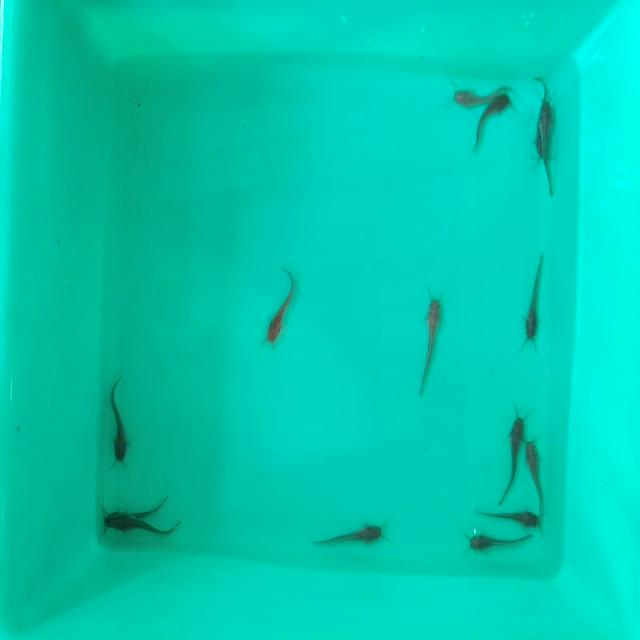lele: (479, 94, 514, 160), (499, 414, 525, 500), (312, 519, 388, 546), (268, 268, 294, 343), (110, 371, 131, 463), (420, 298, 440, 394), (102, 494, 171, 519), (529, 70, 557, 130), (468, 532, 543, 554), (479, 504, 540, 530), (103, 520, 183, 538), (526, 255, 541, 351), (536, 128, 556, 197), (524, 434, 543, 506), (447, 88, 491, 110)
